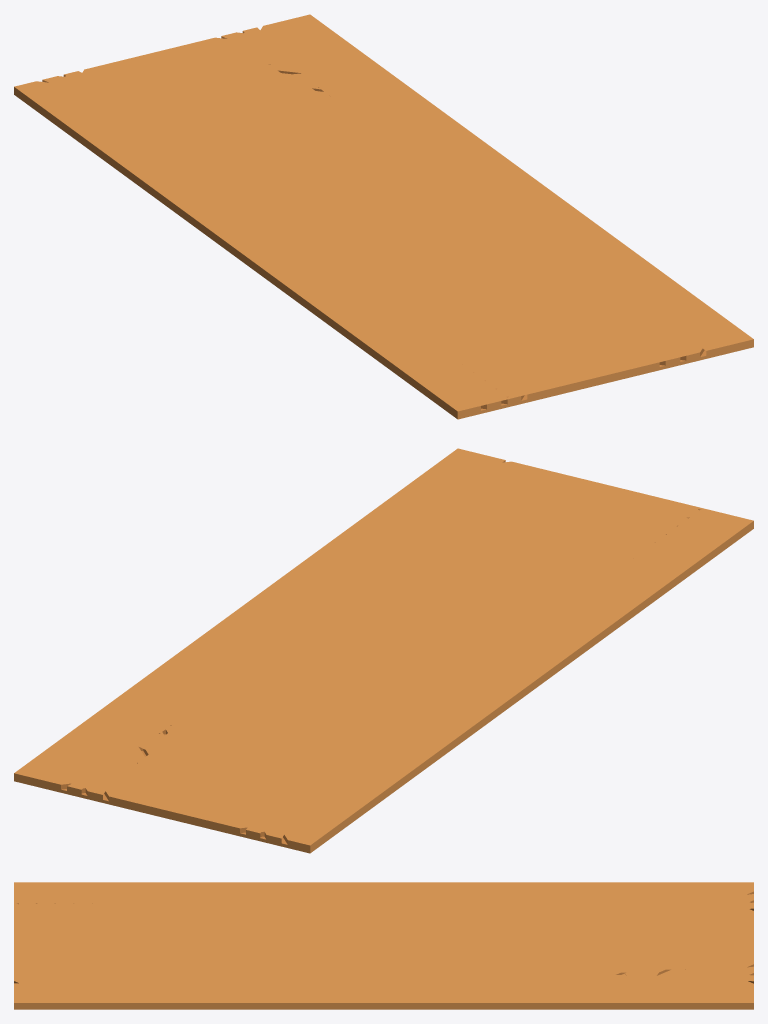
The model's file is SeñalesRuedaTractor.fbx.
3 renders of one model, top to bottom at view 1: azimuth 30°, elevation 25°; view 2: azimuth 150°, elevation 25°; view 3: azimuth 270°, elevation 25°, orthographic. The views are drawn at different scales.
Visible parts, largest first — view 1: Cube.003; view 2: Cube.003; view 3: Cube.003.
Boxes of the visible parts, <box> form: Cube.003: <box>14,14,753,419</box>; Cube.003: <box>14,448,753,853</box>; Cube.003: <box>14,882,753,1009</box>.
Bounding box in the file's own units: 273 × 7.08 × 709.
